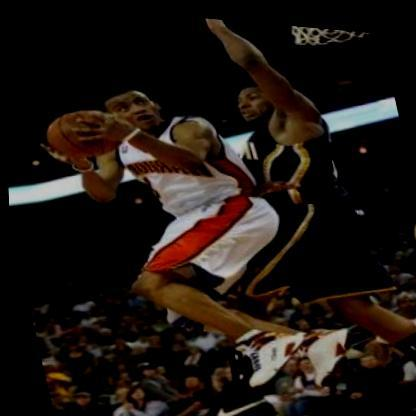basketball: (34, 92, 131, 172)
